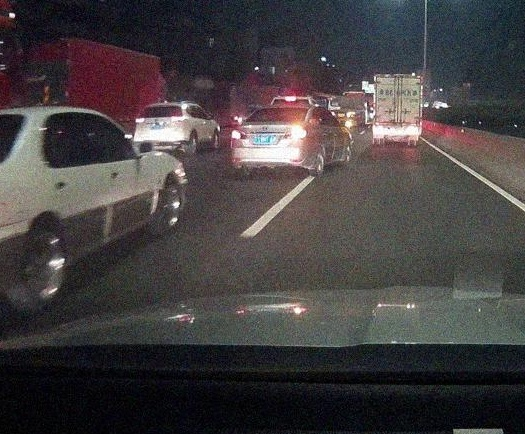L_light: (231, 129, 248, 141), (134, 118, 145, 124), (374, 128, 385, 132)
R_light: (285, 128, 308, 139), (172, 119, 186, 124), (409, 128, 419, 133)
T_light: (274, 107, 288, 111), (157, 105, 167, 109), (393, 76, 403, 80)
night-no: (372, 74, 423, 146), (134, 102, 188, 155)
night-right: (230, 104, 312, 176)
